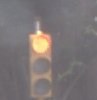Red: (27, 33, 57, 100)
